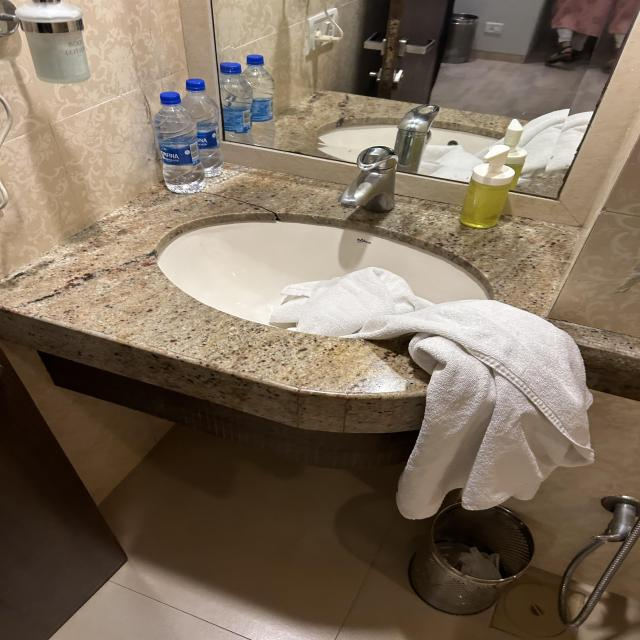mess: (30, 84, 610, 525)
